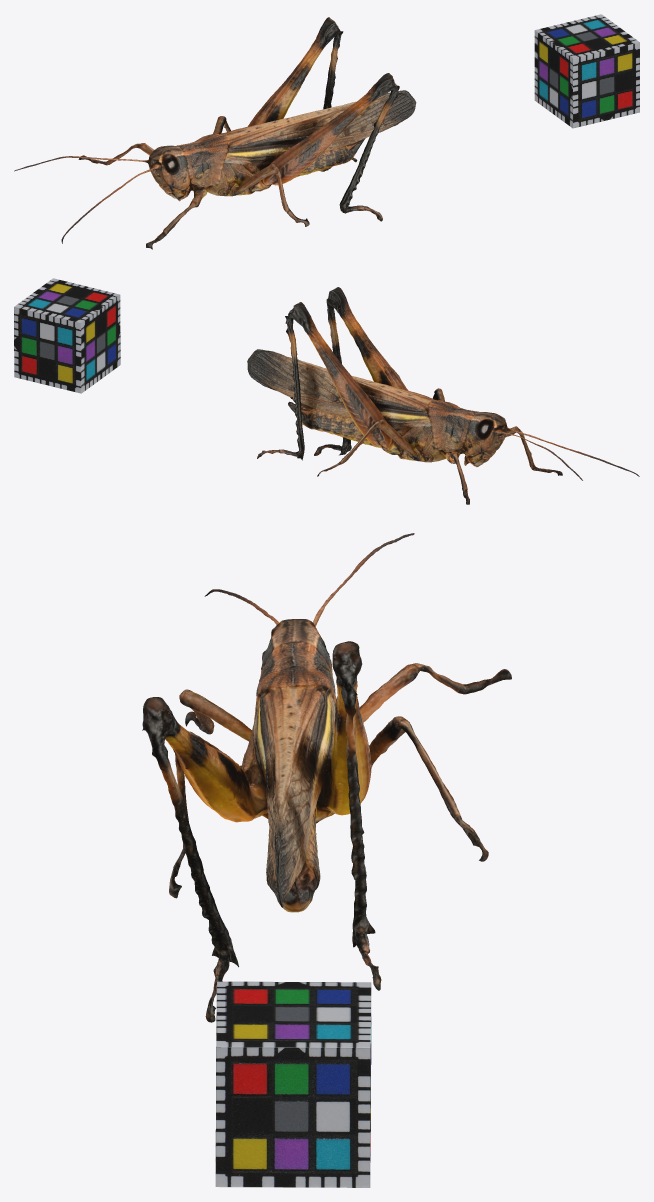
Rendered from serangga.glb.
3 renders of one model, top to bottom at view 1: azimuth 30°, elevation 25°; view 2: azimuth 150°, elevation 25°; view 3: azimuth 270°, elevation 25°, orthographic. The views are drawn at different scales.
Parts seen in each view (by area): view 1: QS1410-W02-1-1_1, Cube_0; view 2: QS1410-W02-1-1_1, Cube_0; view 3: QS1410-W02-1-1_1, Cube_0.
Part boxes in pixels (x1=…): QS1410-W02-1-1_1: x1=14, y1=17, x2=416, y2=249; Cube_0: x1=534, y1=14, x2=639, y2=128; QS1410-W02-1-1_1: x1=247, y1=287, x2=639, y2=504; Cube_0: x1=14, y1=278, x2=120, y2=393; QS1410-W02-1-1_1: x1=142, y1=533, x2=511, y2=1022; Cube_0: x1=215, y1=981, x2=371, y2=1187.
Bounding box in the file's own units: 0.0841 × 0.0251 × 0.0232.
Materials: 2 (2 with a texture image).
